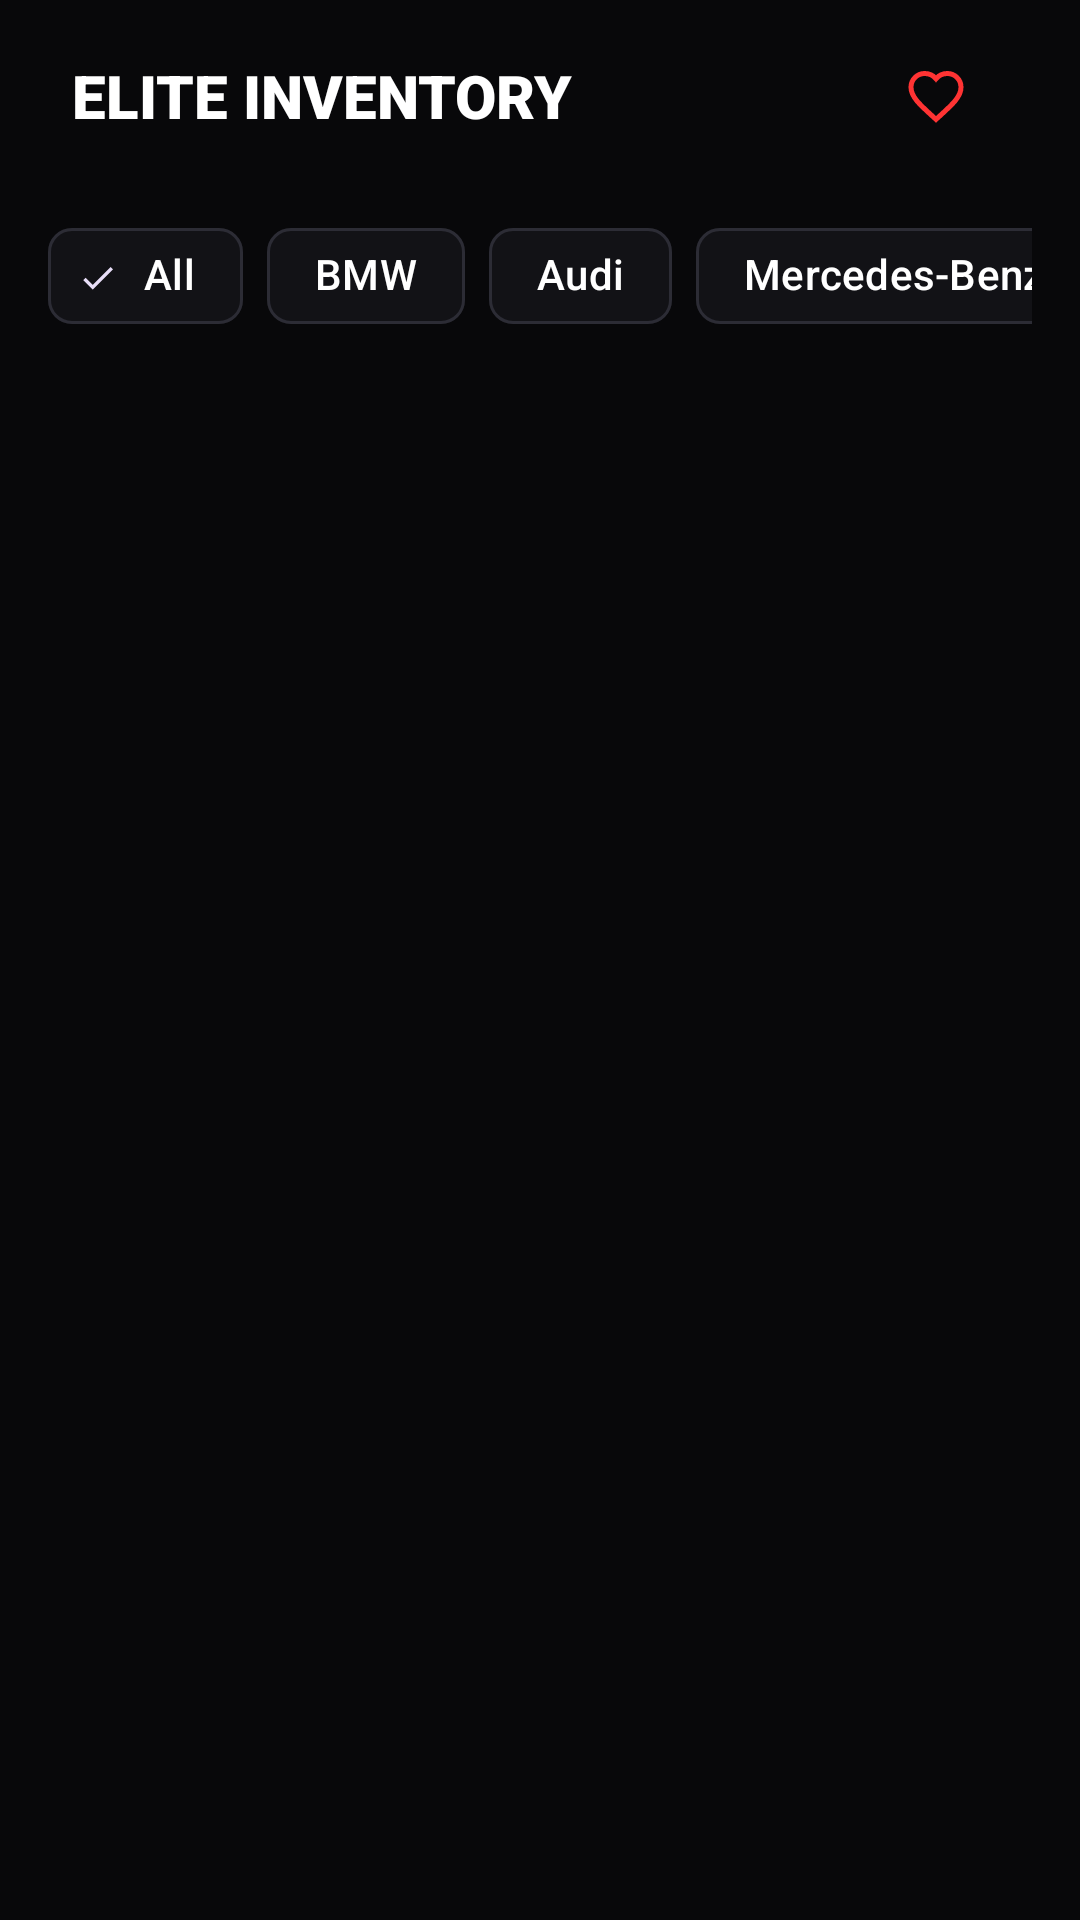

Icons on this 1080x1920 Android screen, each with its box as (x1, y1, x2, y2):
Filter Wishlist Only: (908, 71, 964, 123)
